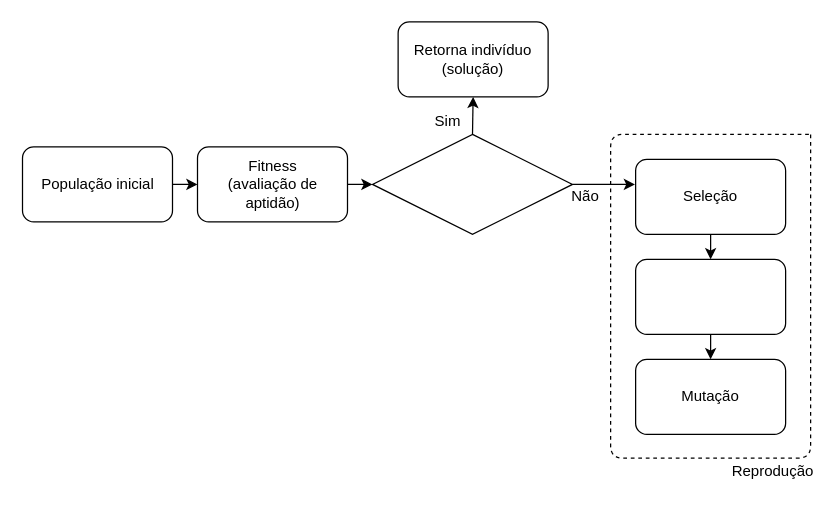
Some shapes in this 835 by 506 pixel diagram are drawn without their labels. The shapes that lost their labels are listed below. From the top down, each one's box as (x1, y1, x2, y2) in pixels, then its label:
(371, 133, 572, 234): Critério de parada satisfeito?
(634, 258, 786, 334): Crossover (cruzamento)
